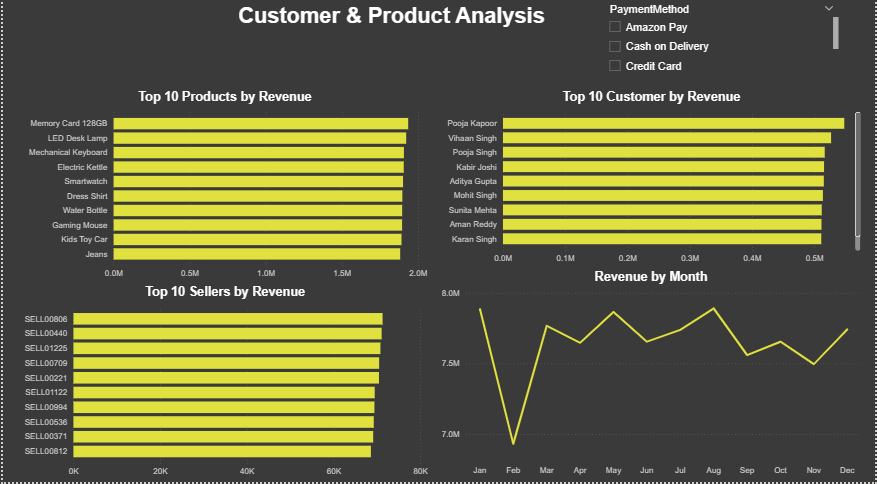

The dashboard page shown, as its layout file describes it:
{"tool":"powerbi","page":{"name":"Page 2","canvas":[1280,720],"ordinal":1},"visuals":[{"type":"barChart","title":"Top 10 Products by Revenue","fields":{"Category":["vw_AmazonSales.ProductName"],"Y":["Sum(vw_AmazonSales.TotalAmount)"]},"box":[23.5,142.5,605.4,286.5],"z":0},{"type":"barChart","title":"Top 10 Customer by Revenue","fields":{"Category":["vw_AmazonSales.CustomerName"],"Y":["Sum(vw_AmazonSales.TotalAmount)"]},"box":[640.7,142.5,624.5,264.5],"z":1000},{"type":"barChart","title":"Top 10 Sellers by Revenue","fields":{"Category":["vw_AmazonSales.SellerID"],"Y":["Sum(vw_AmazonSales.TotalAmount)"]},"box":[23.1,429.4,605.8,290.6],"z":2000},{"type":"lineChart","title":"Revenue by Month","fields":{"Y":["Sum(vw_AmazonSales.TotalAmount)"],"Category":["vw_AmazonSales.Month Name"]},"box":[639,407.7,626,312.3],"z":3000},{"type":"slicer","fields":{"Values":["vw_AmazonSales.PaymentMethod"]},"box":[878.7,11.8,354.1,120.5],"z":4000},{"type":"textbox","box":[263,11.8,615.7,73.5],"z":6000}]}

Visuals, with their boxes in screenshot pixels (x1, y1, x2, y2), scaled from the page's 1280x720 canvas onto the 877x484 screenshot:
"Top 10 Products by Revenue" barChart: Rect(16, 96, 431, 288)
"Top 10 Customer by Revenue" barChart: Rect(439, 96, 867, 274)
"Top 10 Sellers by Revenue" barChart: Rect(16, 289, 431, 483)
"Revenue by Month" lineChart: Rect(438, 274, 867, 483)
slicer - vw_AmazonSales.PaymentMethod: Rect(602, 8, 845, 89)
textbox: Rect(180, 8, 602, 57)
